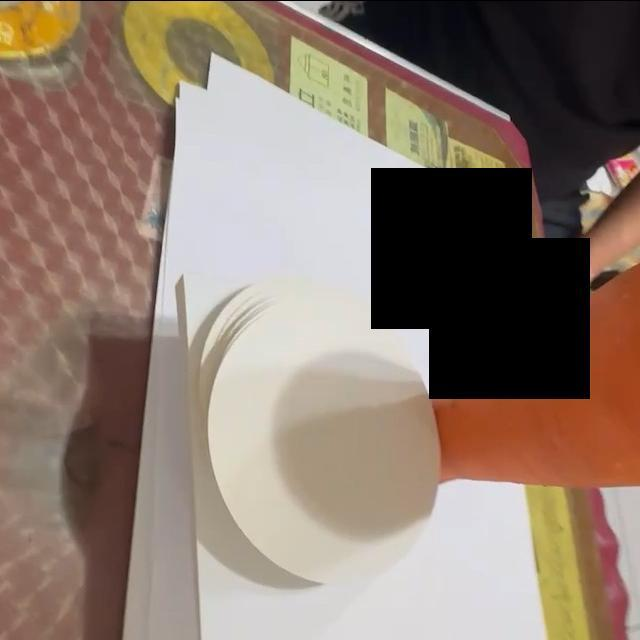carrot: (432, 239, 640, 488)
